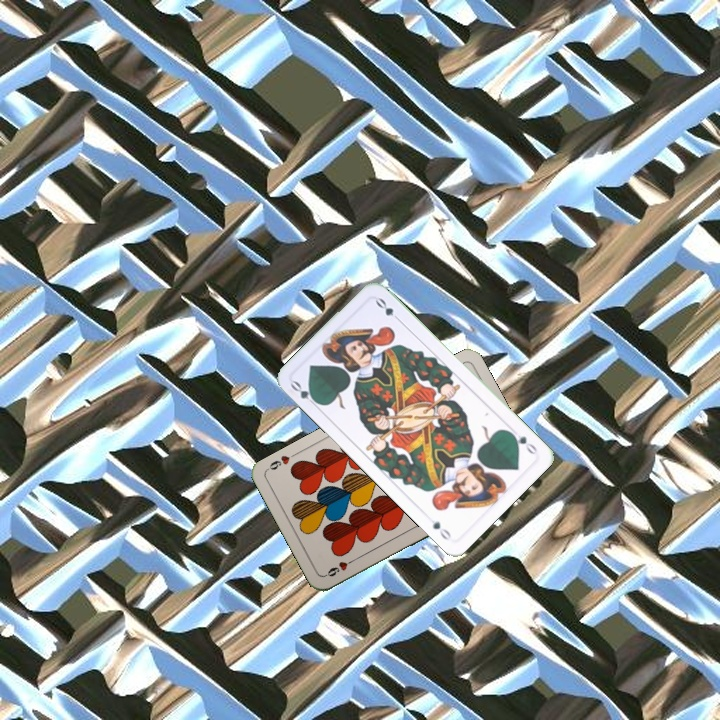GO: (286, 377, 322, 410), (505, 428, 540, 457)
H9: (321, 554, 359, 579)
